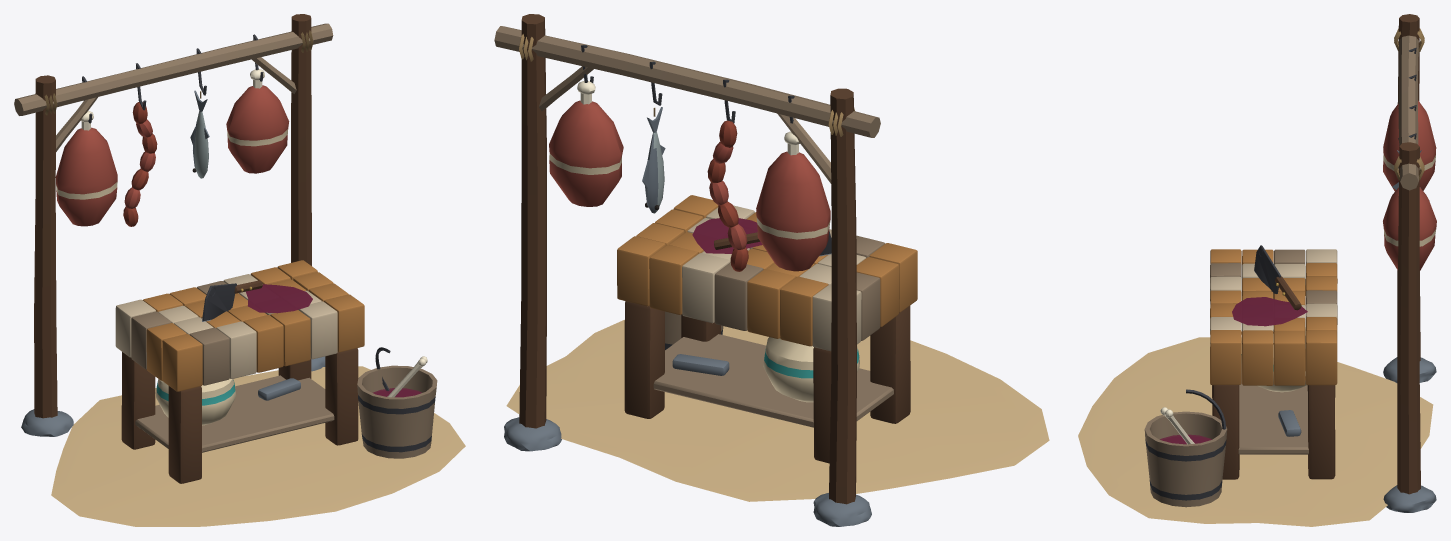
Rendered from deco_butcher_block.fbx.
The picture shows the model from 3 angles, left to right: view 1: azimuth 30°, elevation 25°; view 2: azimuth 150°, elevation 25°; view 3: azimuth 270°, elevation 25°; orthographic projection. The views are drawn at different scales.
Parts seen in each view (by area): view 1: ButcherBlock_Block, ButcherBlock_HookRack, ButcherBlock_Meat, ButcherBlock_Bucket, ButcherBlock_Cleaver; view 2: ButcherBlock_Block, ButcherBlock_HookRack, ButcherBlock_Meat; view 3: ButcherBlock_Block, ButcherBlock_HookRack, ButcherBlock_Bucket, ButcherBlock_Meat, ButcherBlock_Cleaver.
Boxes of the visible parts, x1=… form: ButcherBlock_Block: x1=51, y1=260, x2=465, y2=526; ButcherBlock_HookRack: x1=14, y1=14, x2=333, y2=436; ButcherBlock_Meat: x1=55, y1=69, x2=289, y2=226; ButcherBlock_Bucket: x1=357, y1=347, x2=437, y2=458; ButcherBlock_Cleaver: x1=202, y1=280, x2=262, y2=321; ButcherBlock_Block: x1=506, y1=195, x2=1049, y2=501; ButcherBlock_HookRack: x1=494, y1=14, x2=880, y2=526; ButcherBlock_Meat: x1=549, y1=81, x2=830, y2=271; ButcherBlock_Block: x1=1078, y1=249, x2=1433, y2=526; ButcherBlock_HookRack: x1=1383, y1=14, x2=1436, y2=512; ButcherBlock_Bucket: x1=1144, y1=389, x2=1227, y2=507; ButcherBlock_Meat: x1=1383, y1=100, x2=1436, y2=270; ButcherBlock_Cleaver: x1=1254, y1=245, x2=1301, y2=310.
Size of the model in its own units: 281 by 247 by 225.
